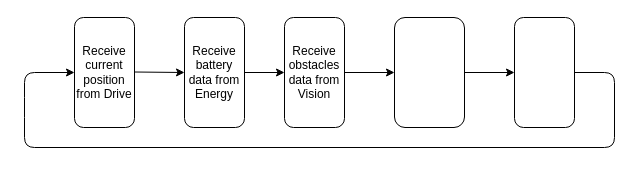
The diagram is 640 pixels wide and 173 high, and some of its shapes have lost their labels. The shapes that lost their labels are listed below. From the top down, each one's centre as x and y in pixels, then its label:
(429,72): Send data to Command and receive destination
(544,72): Send destination to Drive
